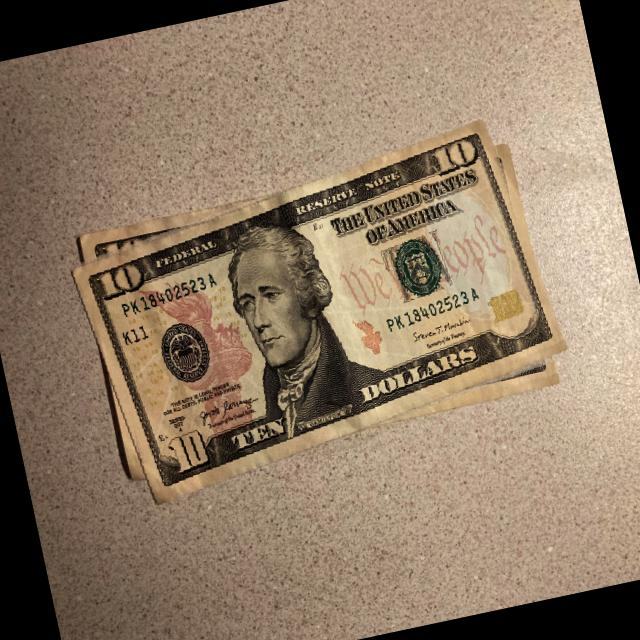ten: (67, 124, 573, 498)
